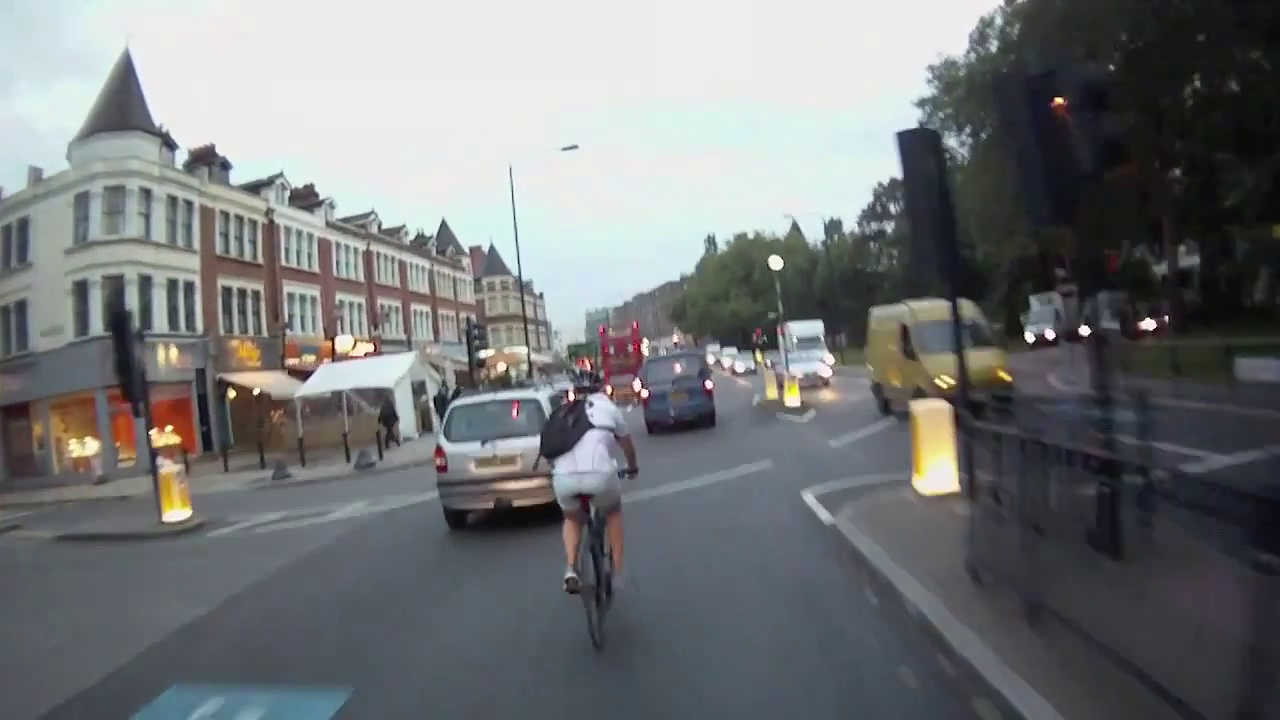cyclist_back: (548, 369, 640, 657)
